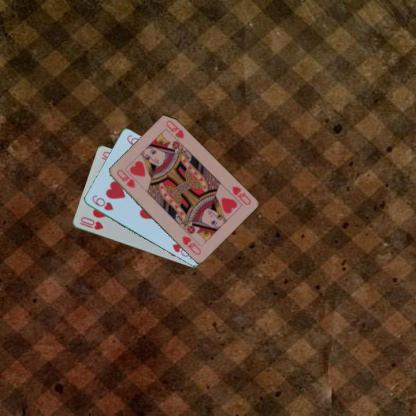10h: (77, 214, 104, 231)
6h: (89, 192, 114, 212)
Qh: (229, 183, 252, 206), (114, 166, 136, 189)
